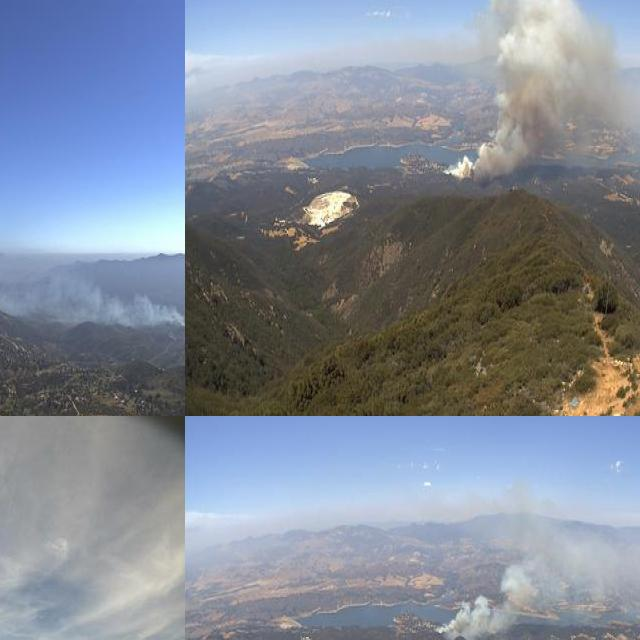smoke: (441, 0, 628, 190), (430, 522, 640, 640), (0, 263, 185, 331)
